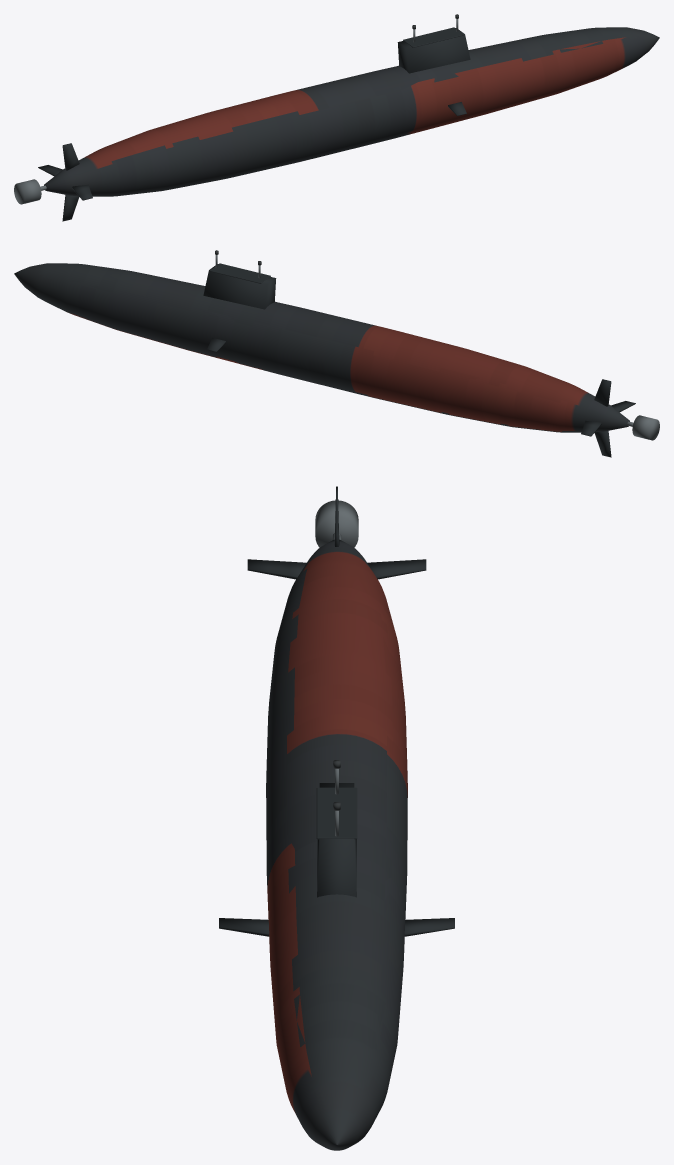
Rendered from CN_SSN_Type093B_LOD1.fbx.
The picture shows the model from 3 angles, top to bottom: view 1: azimuth 30°, elevation 25°; view 2: azimuth 150°, elevation 25°; view 3: azimuth 270°, elevation 25°; orthographic projection. The views are drawn at different scales.
Visible parts, largest first — view 1: CN_SSN_Type093B_LOD1; view 2: CN_SSN_Type093B_LOD1; view 3: CN_SSN_Type093B_LOD1.
Boxes of the visible parts, x1,y1,x2,y2 form: CN_SSN_Type093B_LOD1: (14,14,659,221); CN_SSN_Type093B_LOD1: (14,250,659,457); CN_SSN_Type093B_LOD1: (219,486,454,1150).
Size of the model in its own units: 115 by 18.32 by 18.81.
6 materials, 1 textured.
